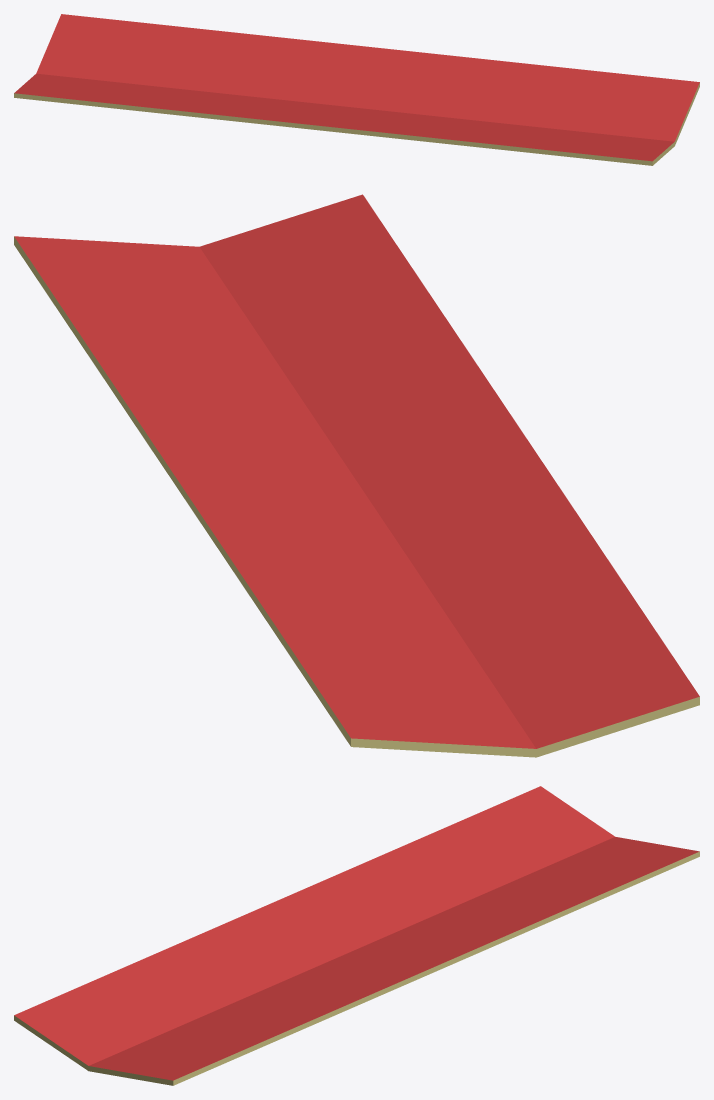
The picture shows the model from 3 angles, top to bottom: view 1: azimuth 30°, elevation 25°; view 2: azimuth 150°, elevation 25°; view 3: azimuth 270°, elevation 25°; orthographic projection. The views are drawn at different scales.
Size of the model in its own units: 12 by 11.81 by 0.481.
